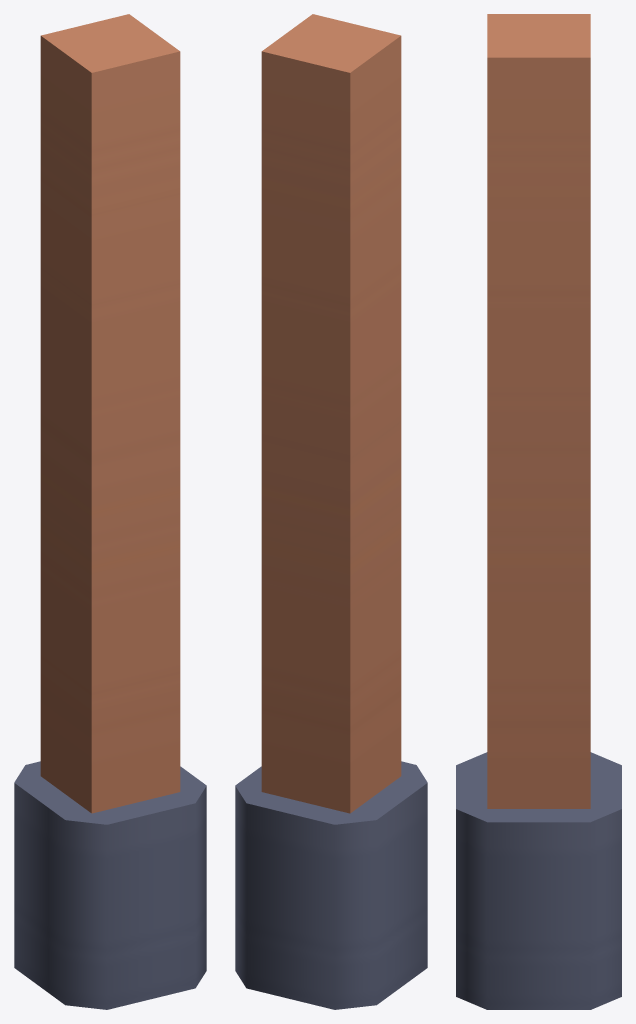
Rendered from pillar-wood.fbx.
3 views of the same model, side by side, from view 1: azimuth 30°, elevation 25°; view 2: azimuth 150°, elevation 25°; view 3: azimuth 270°, elevation 25° (orthographic).
Parts seen in each view (by area): view 1: pillar-wood; view 2: pillar-wood; view 3: pillar-wood.
Part boxes in pixels (x1,y1,x2,y2): pillar-wood: [14, 14, 206, 1009]; pillar-wood: [235, 14, 427, 1009]; pillar-wood: [456, 14, 621, 1009].
Size of the model in its own units: 16 by 100 by 16.
1 material, 1 textured.
